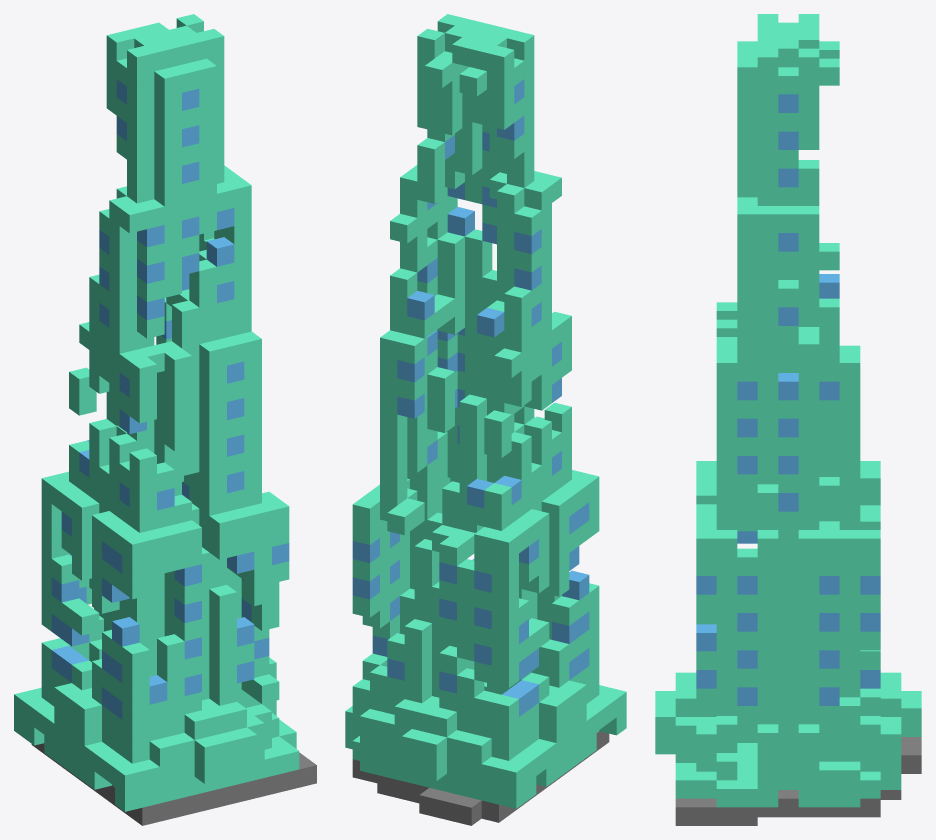
The model's file is building_2_collapsed_2.gltf.
3 renders of one model, left to right at view 1: azimuth 30°, elevation 25°; view 2: azimuth 150°, elevation 25°; view 3: azimuth 270°, elevation 25°, orthographic. The views are drawn at different scales.
Parts seen in each view (by area): view 1: Layer.1; view 2: Layer.1; view 3: Layer.1.
Part boxes in pixels (x1,y1,x2,y2): Layer.1: (14,14,316,825); Layer.1: (345,14,626,825); Layer.1: (655,14,921,825).
Size of the model in its own units: 11 by 40 by 13.
Materials: 1 (1 with a texture image).
